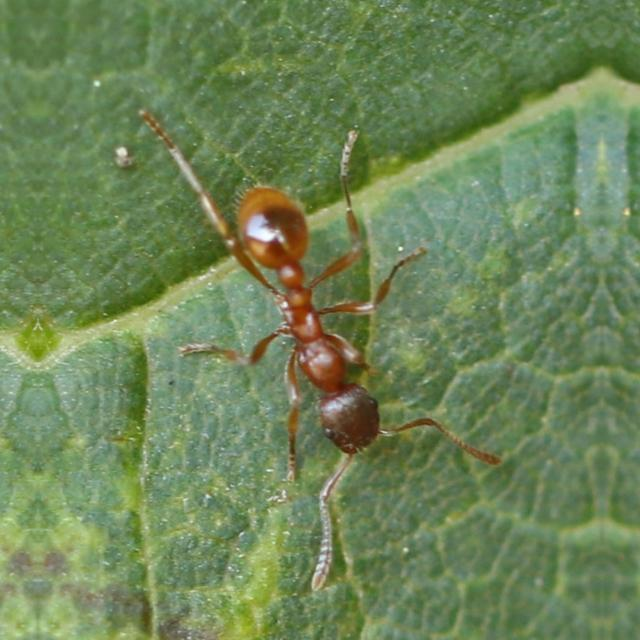Myrmica: (171, 172, 457, 476)
